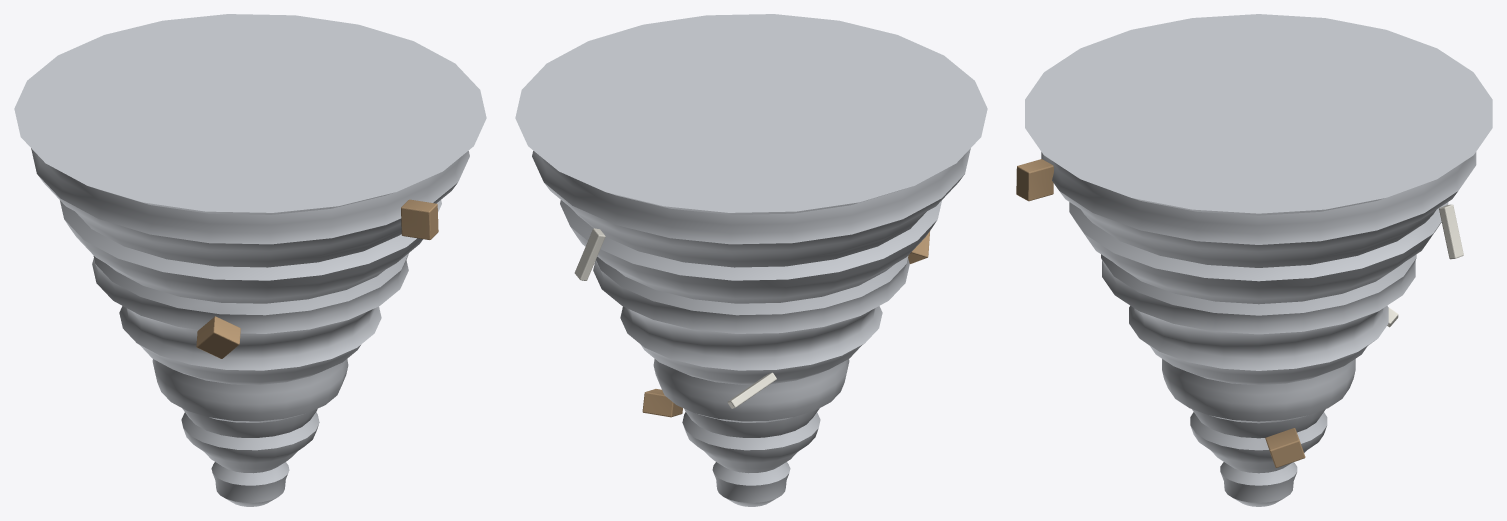
The model's file is tornado.glb.
3 renders of one model, left to right at view 1: azimuth 30°, elevation 25°; view 2: azimuth 150°, elevation 25°; view 3: azimuth 270°, elevation 25°, orthographic.
Parts seen in each view (by area): view 1: Tornado; view 2: Tornado; view 3: Tornado.
Part boxes in pixels (x1,y1,x2,y2): Tornado: (14, 14, 486, 506); Tornado: (515, 14, 987, 506); Tornado: (1016, 14, 1492, 506).
Bounding box in the file's own units: 4.46 × 4 × 4.49.
